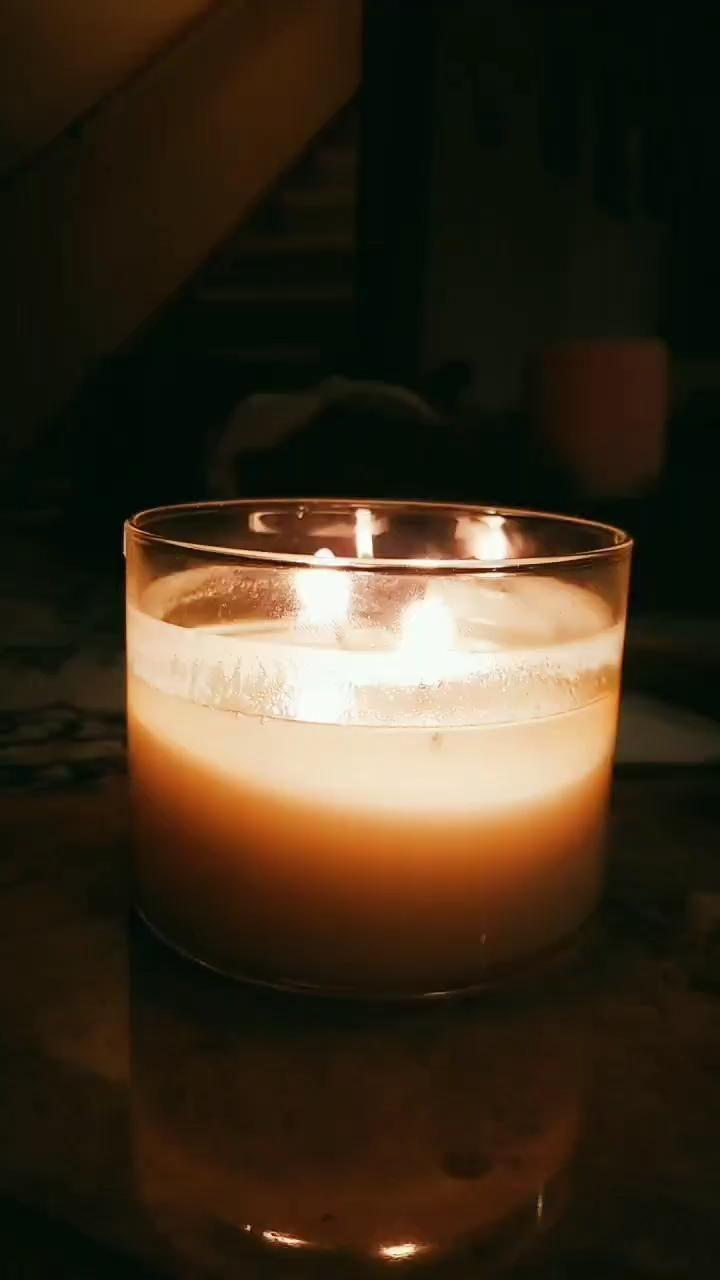glass-normal: (109, 485, 641, 1279)
